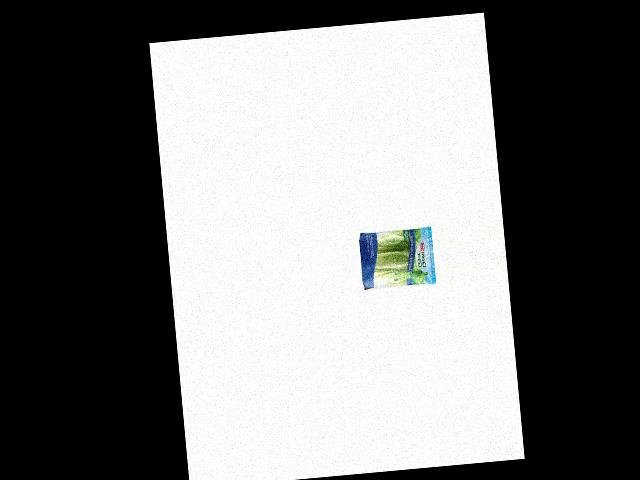lettuce: (355, 226, 433, 292)
